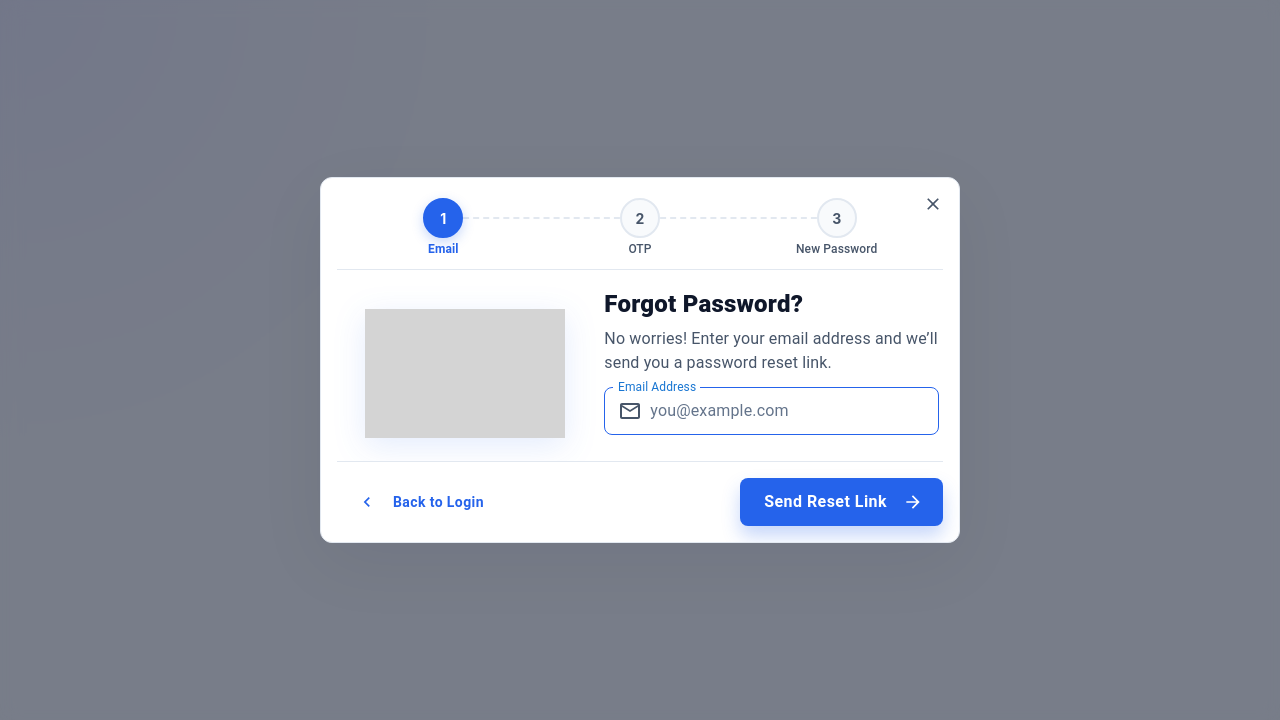
ForgotPasswordDialog › renders step 1 and sends a reset code before advancing to OTP
Expected: the heading "Forgot Password?" is shown, [604,290,803,318]
In the field labelled "Email Address": point(795, 411) [650,399,939,422], type "user@example.com"
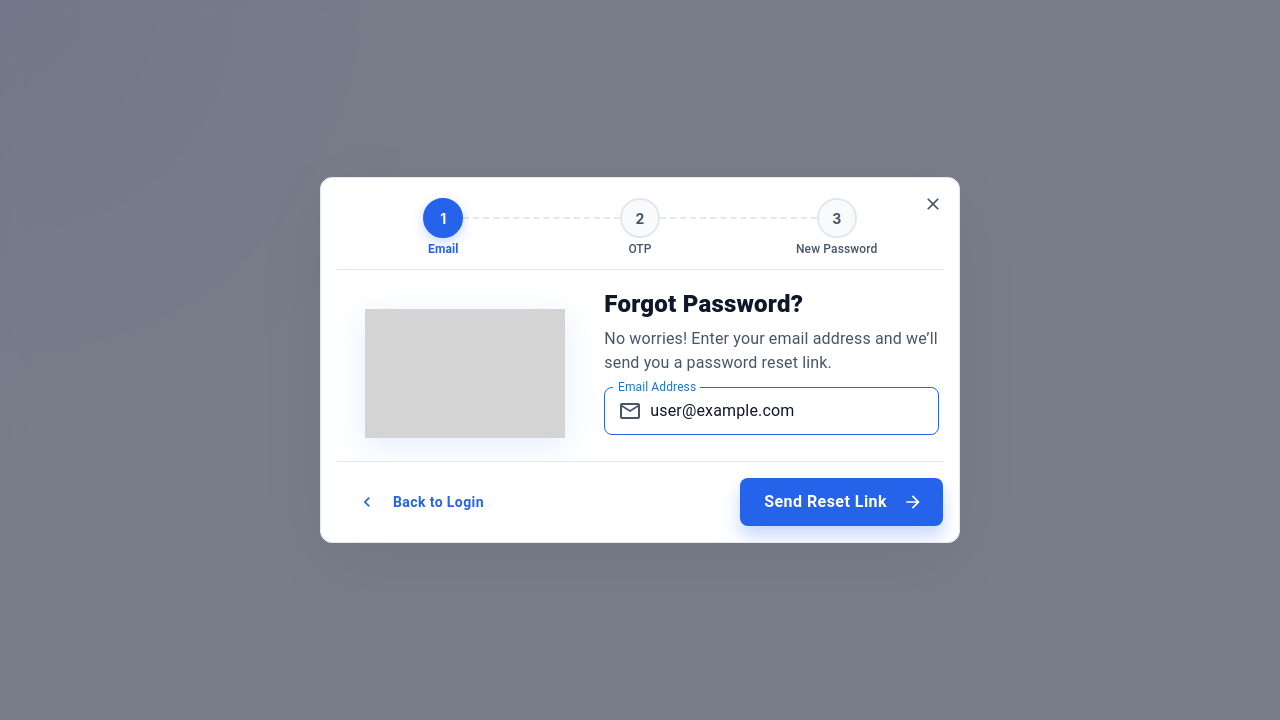
Click the button "Send Reset Link": point(842, 502) [740,478,943,526]
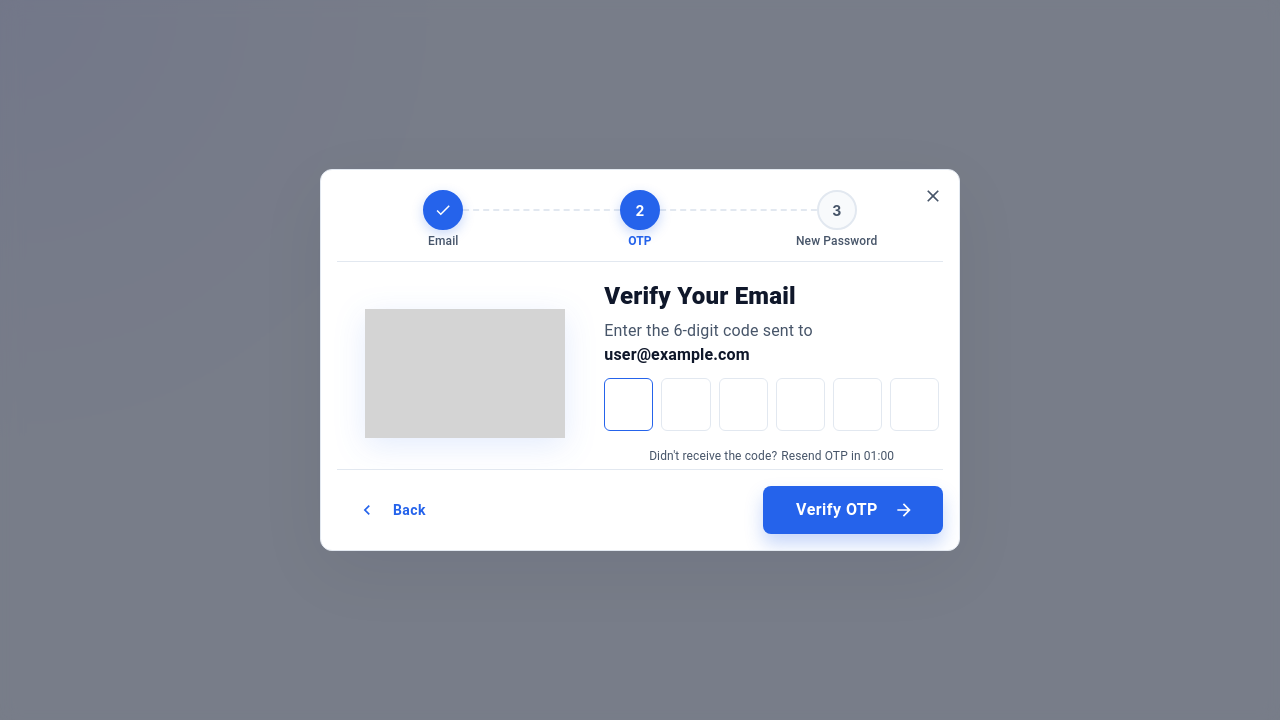
Result: the heading "Verify Your Email" is shown at [604,282,796,310]
